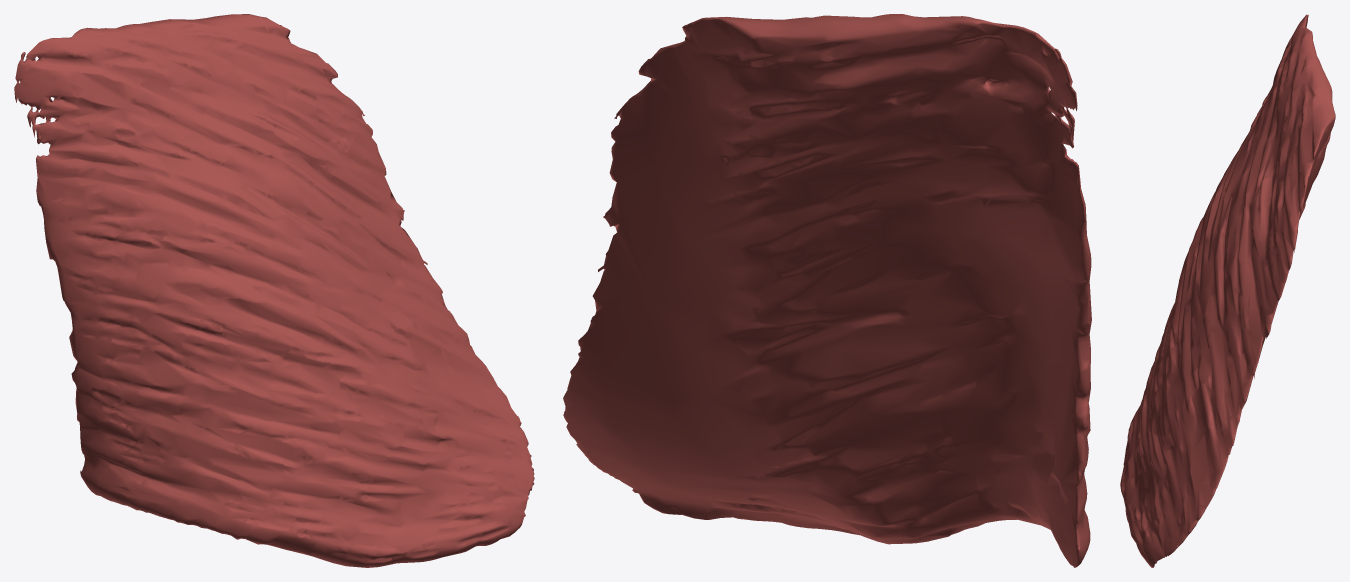
The model's file is FMA38455.glb.
The picture shows the model from 3 angles, left to right: view 1: azimuth 30°, elevation 25°; view 2: azimuth 150°, elevation 25°; view 3: azimuth 270°, elevation 25°; orthographic projection. The views are drawn at different scales.
Parts seen in each view (by area): view 1: FMA38455; view 2: FMA38455; view 3: FMA38455.
Part boxes in pixels (x1,y1,x2,y2): FMA38455: (14,14,534,567); FMA38455: (563,14,1091,567); FMA38455: (1120,14,1335,567).
Size of the model in its own units: 0.0453 by 0.0505 by 0.024.
